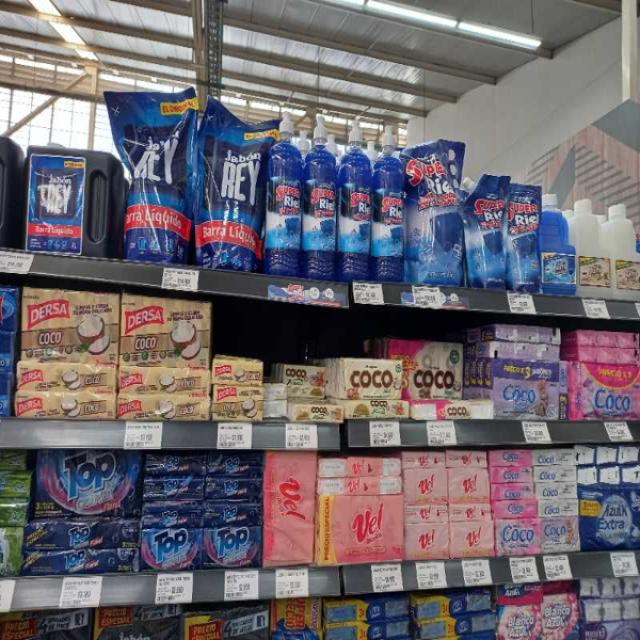Jabon_rey: (24, 147, 123, 257)
Super_Riel: (265, 113, 308, 280), (337, 118, 374, 281), (305, 115, 339, 281), (372, 125, 407, 282)
